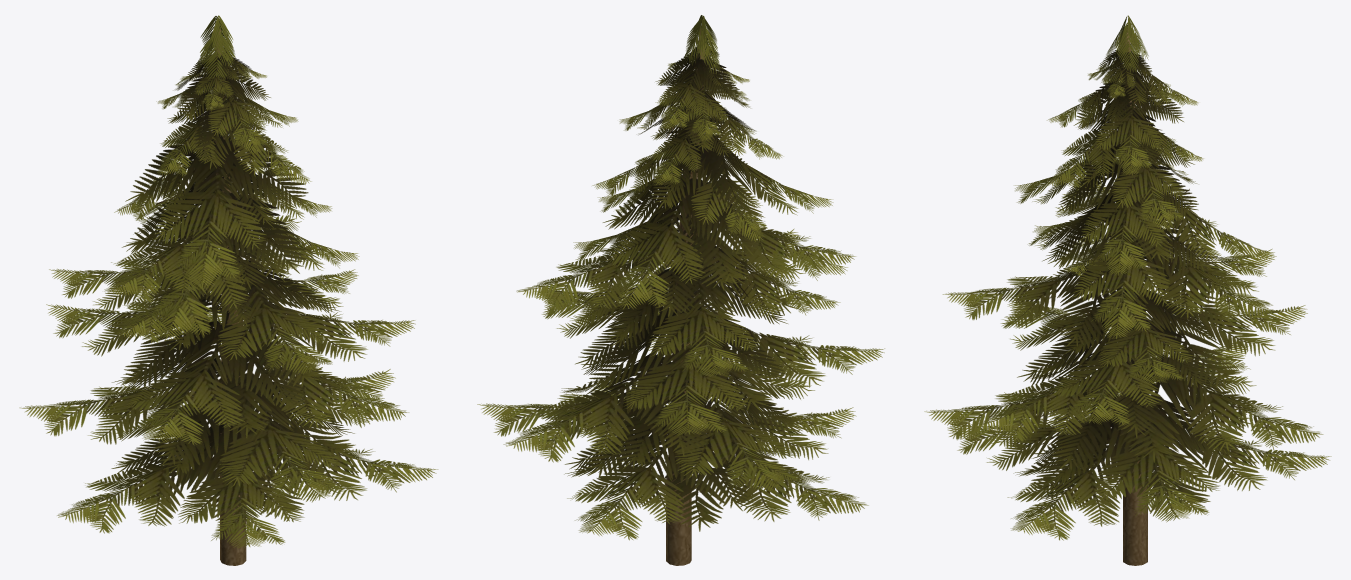
Rendered from tree-transformed.glb.
3 views of the same model, side by side, from view 1: azimuth 30°, elevation 25°; view 2: azimuth 150°, elevation 25°; view 3: azimuth 270°, elevation 25° (orthographic). The views are drawn at different scales.
Parts seen in each view (by area): view 1: Leaves/001_Leavs_0, Trank.001_Trank_0; view 2: Leaves/001_Leavs_0, Trank.001_Trank_0; view 3: Leaves/001_Leavs_0, Trank.001_Trank_0.
Boxes of the visible parts, <box> form: Leaves/001_Leavs_0: <box>19,15,438,548</box>; Trank.001_Trank_0: <box>214,29,246,565</box>; Leaves/001_Leavs_0: <box>477,15,884,540</box>; Trank.001_Trank_0: <box>666,28,705,565</box>; Leaves/001_Leavs_0: <box>924,15,1331,540</box>; Trank.001_Trank_0: <box>1120,28,1147,565</box>.
Bounding box in the file's own units: 217 × 308 × 217.
2 materials, 2 textured.
